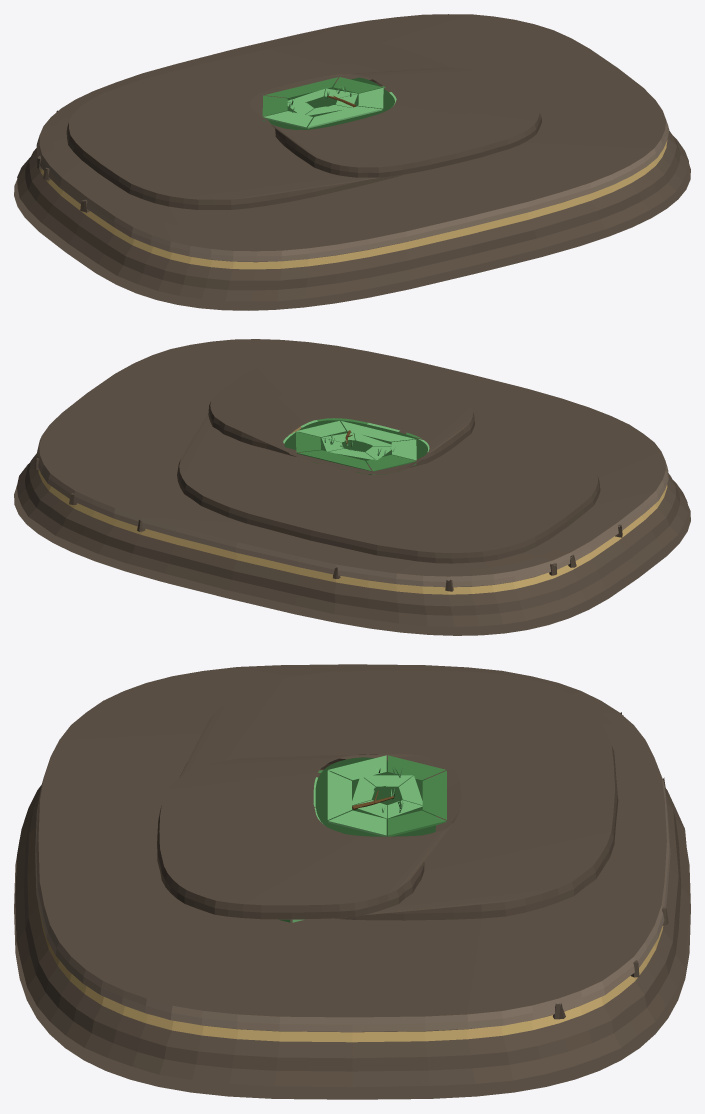
Rendered from TerraceIslandL.fbx.
3 renders of one model, top to bottom at view 1: azimuth 30°, elevation 25°; view 2: azimuth 150°, elevation 25°; view 3: azimuth 270°, elevation 25°, orthographic. The views are drawn at different scales.
Parts seen in each view (by area): view 1: TerraceIslandL; view 2: TerraceIslandL; view 3: TerraceIslandL.
Part boxes in pixels (x1=…): TerraceIslandL: x1=14, y1=14, x2=690, y2=310; TerraceIslandL: x1=14, y1=339, x2=690, y2=635; TerraceIslandL: x1=14, y1=664, x2=690, y2=1099.
Bounding box in the file's own units: 5184 × 731 × 3888.
